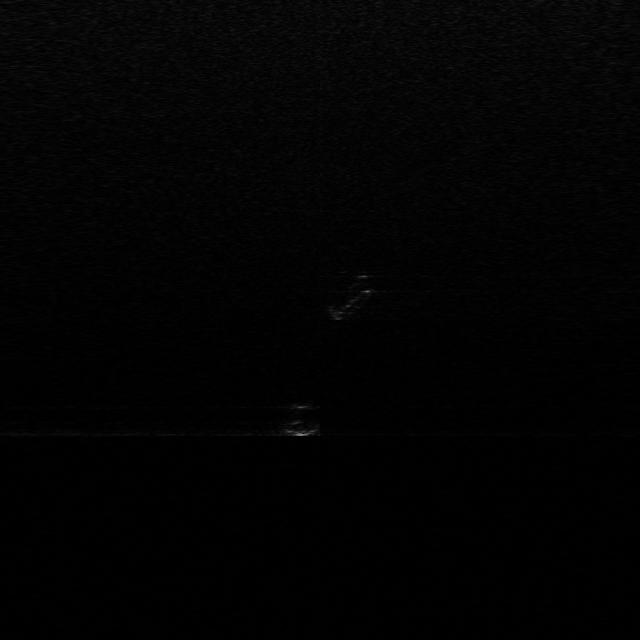ball: (267, 398, 324, 436)
tyre: (326, 277, 372, 321)
